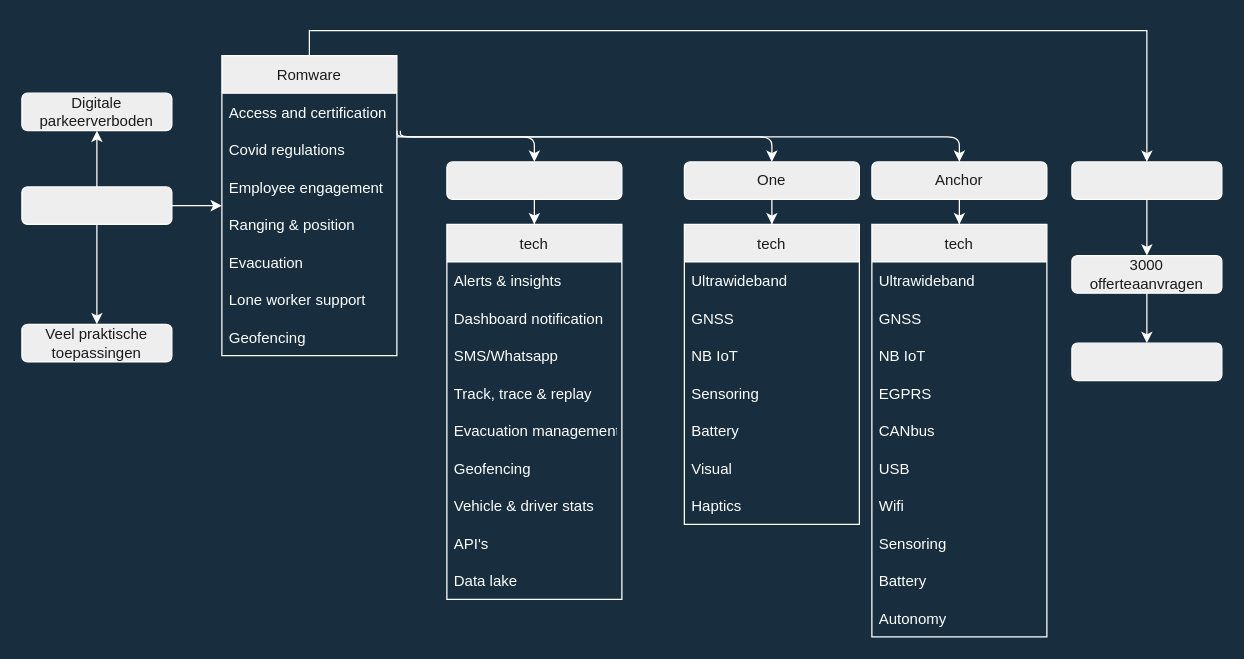
The diagram is 1244 pixels wide and 659 high, and some of its shapes have lost their labels. The centre of each missing label's shape, as x and y in pixels:
300 klanten: point (1146, 361)
Platform: point (534, 180)
Rombit: point (96, 205)
Veel media aandacht: point (1146, 180)
